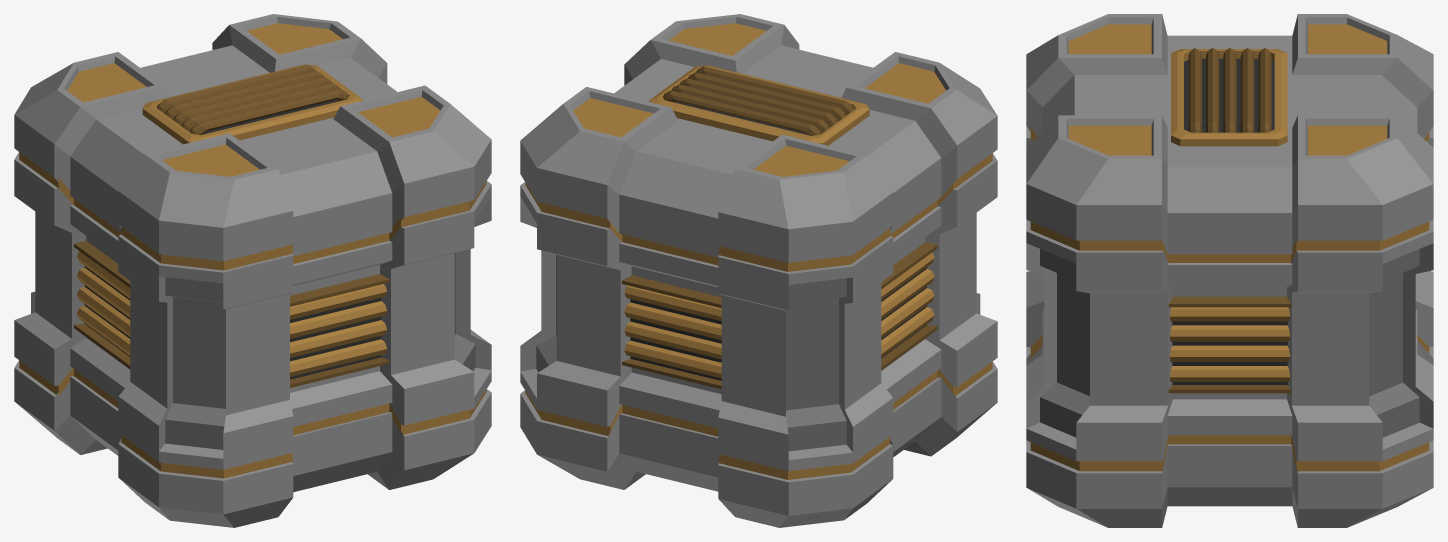
File: crate.glb
3 renders of one model, left to right at view 1: azimuth 30°, elevation 25°; view 2: azimuth 150°, elevation 25°; view 3: azimuth 270°, elevation 25°, orthographic. The views are drawn at different scales.
Parts seen in each view (by area): view 1: Props_Crate; view 2: Props_Crate; view 3: Props_Crate.
Boxes of the visible parts, x1=… form: Props_Crate: x1=14, y1=14, x2=491, y2=527; Props_Crate: x1=520, y1=14, x2=997, y2=527; Props_Crate: x1=1026, y1=14, x2=1433, y2=527.
Size of the model in its own units: 0.7971 by 0.8055 by 0.7971.
